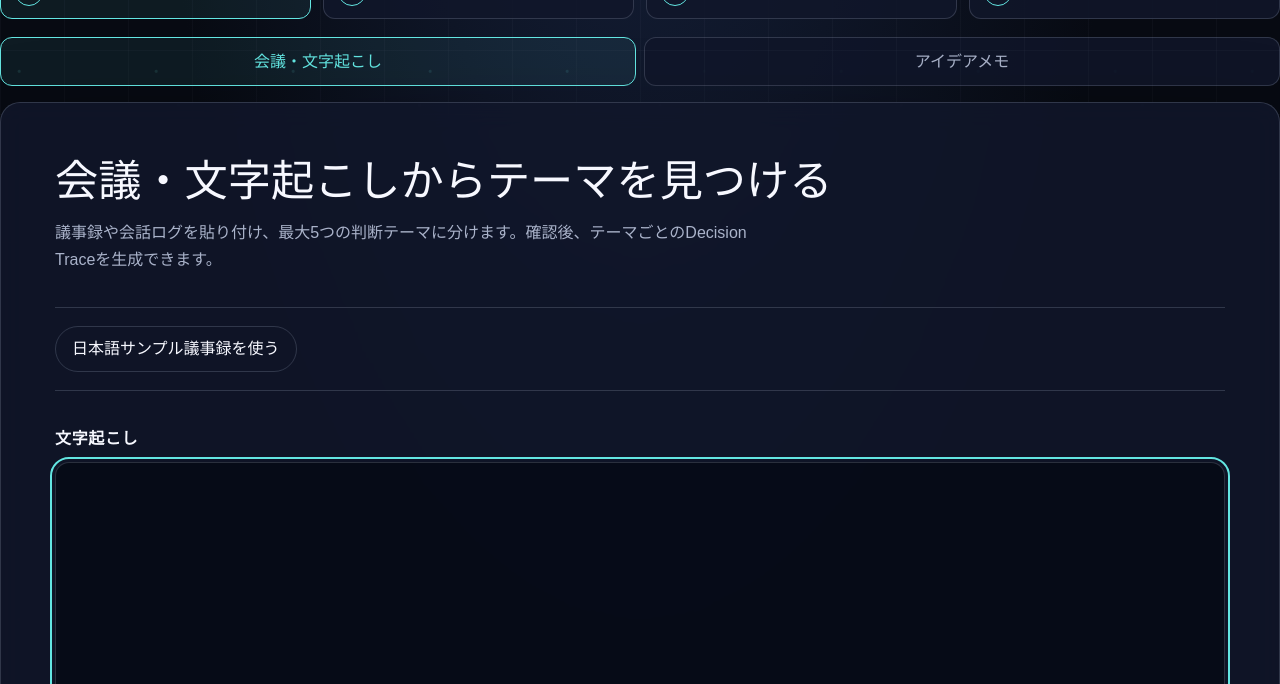
it: DecisionTraceApp › shows safe bilingual guidance for ANALYSIS_COULD_NOT_GROUND
Click the button "アイデアメモ" at (962, 62), box [644,37,1279,86]
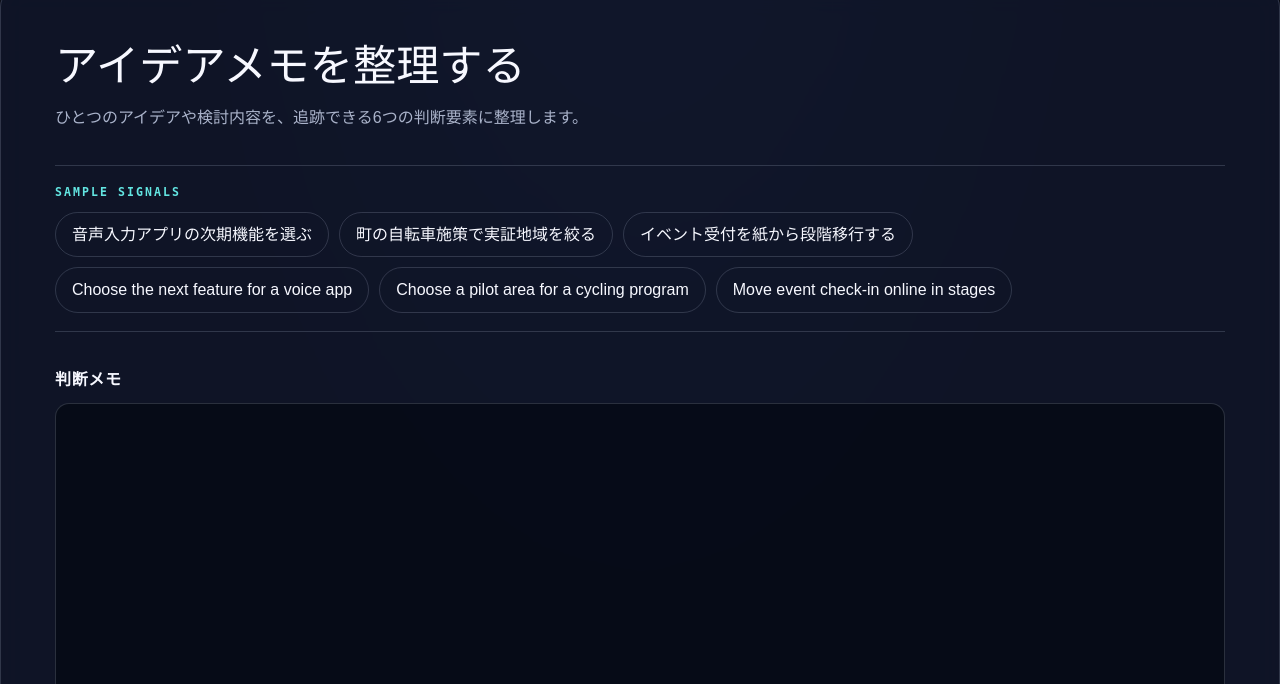
Click the button "町の自転車施策で実証地域を絞る" at (476, 235), box [339,212,613,257]
(page scrolled)
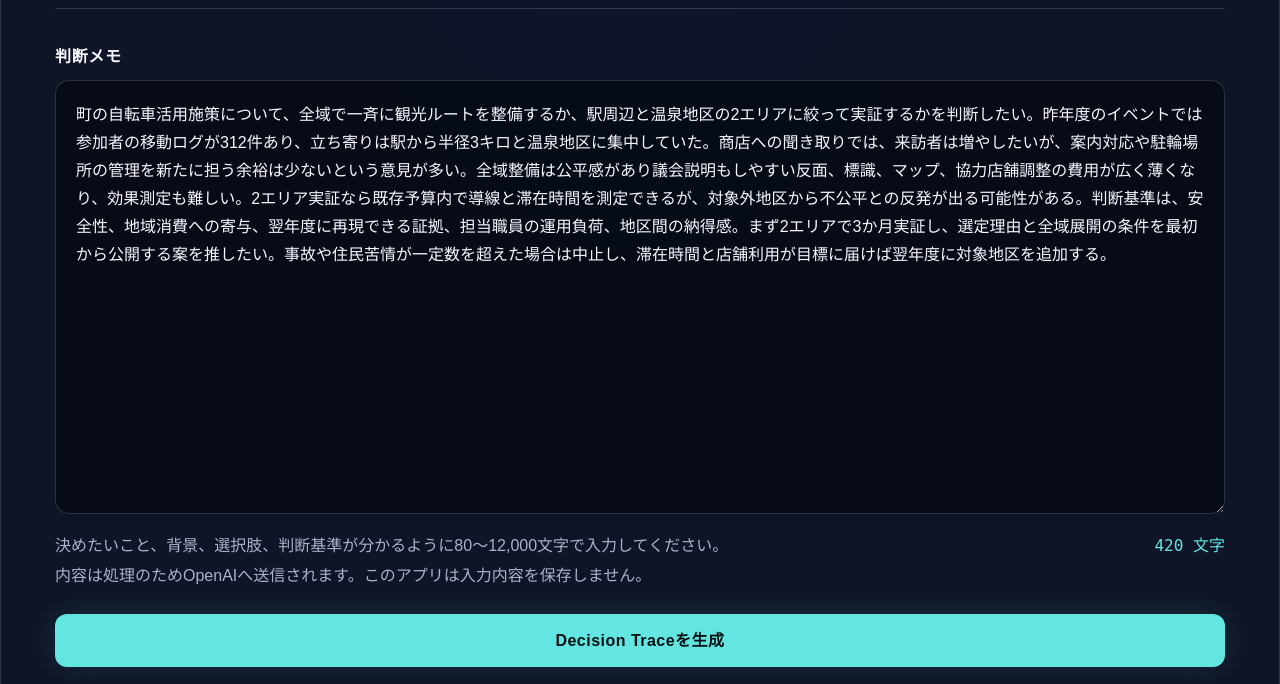
Click the button "Decision Traceを生成" at (640, 641), box [55,614,1225,668]
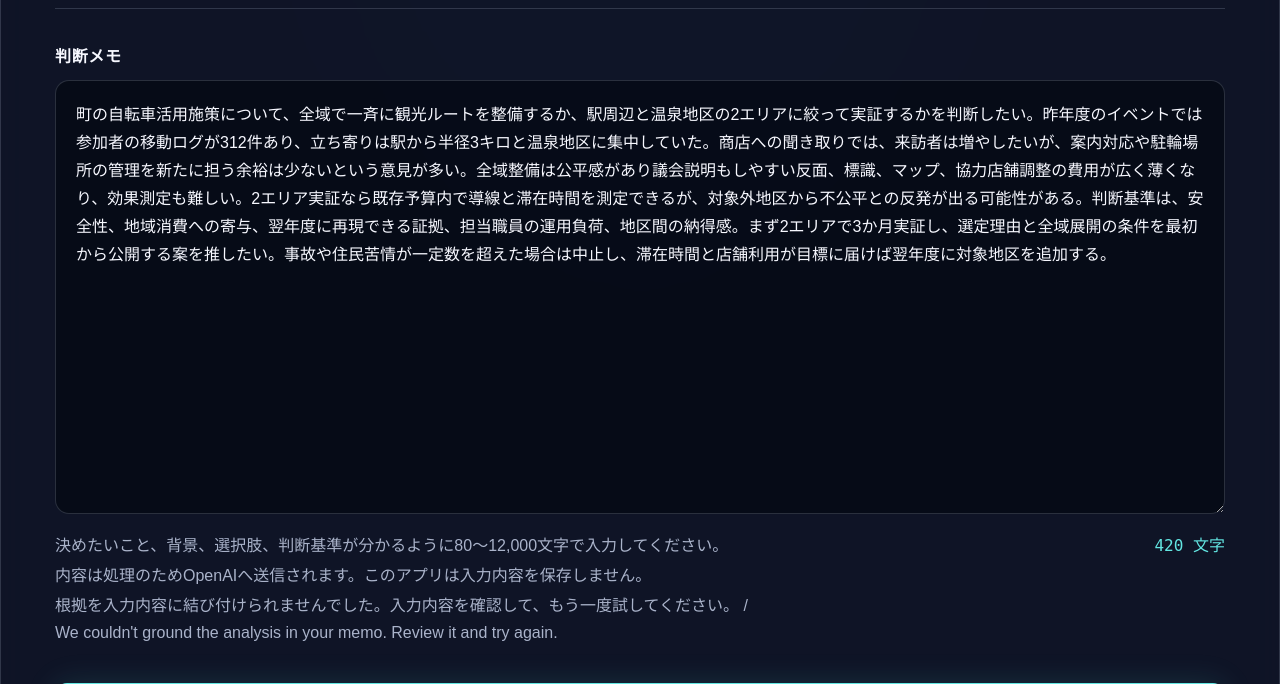
Check: the text box labelled "判断メモ" holds "町の自転車活用施策について、全域で一斉に観光ルートを整備するか、駅周辺と温泉地区の2エリアに絞って実証するかを判断したい。昨年度のイベントでは参加者の移動ログが312件あり、立ち寄りは駅から半径3キロと温泉地区に集中していた。商店への聞き取りでは、来訪者は増やしたいが、案内対応や駐輪場所の管理を新たに担う余裕は少ないと", box [55,80,1225,514]
Check: the message shows "根拠を入力内容に結び付けられませんでした", box [55,597,748,642]
Check: the message shows "couldn't ground the analysis in your memo", box [55,597,748,642]
